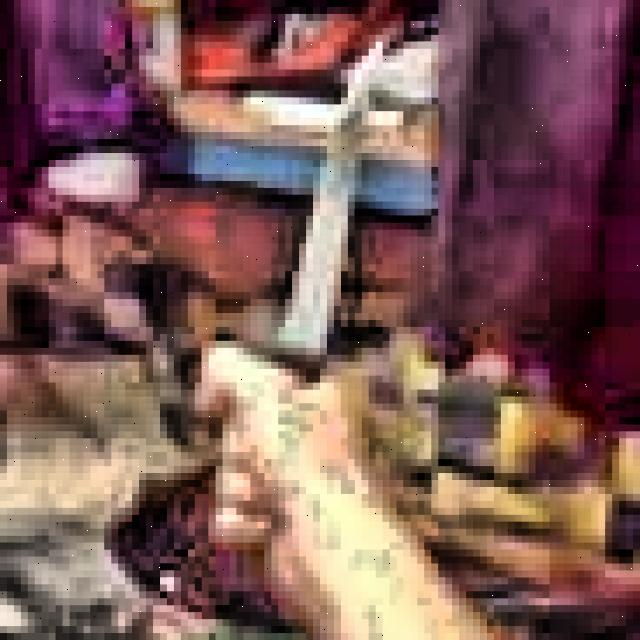knife: (222, 45, 384, 618)
